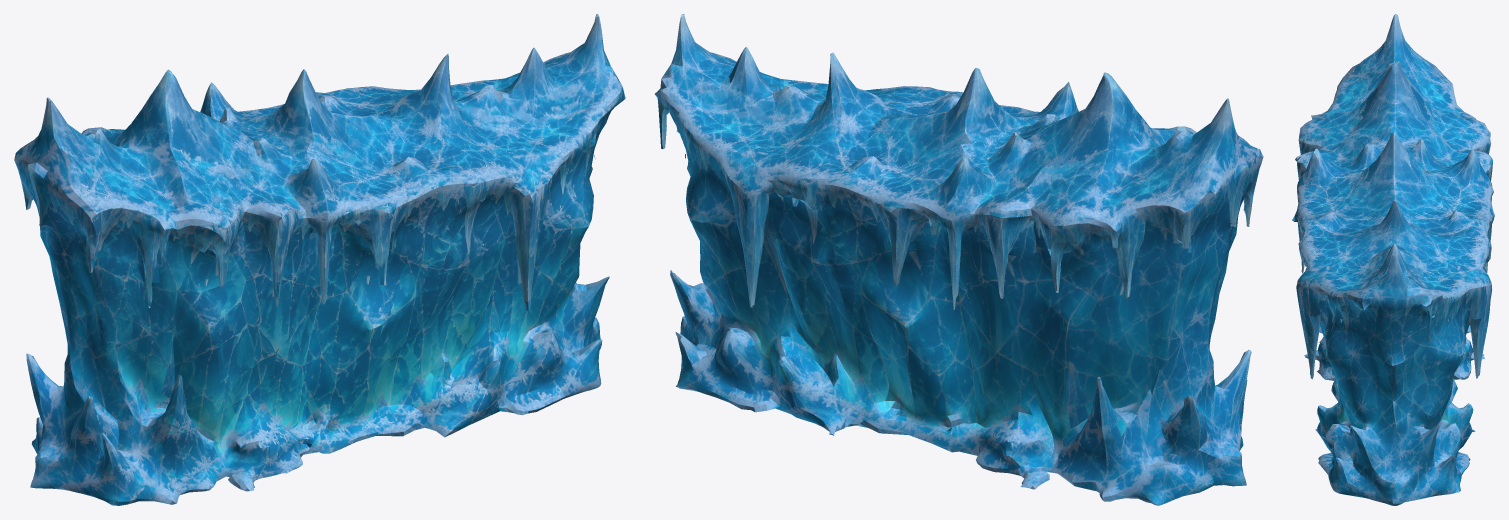
File: wall-of-frost.glb
3 views of the same model, side by side, from view 1: azimuth 30°, elevation 25°; view 2: azimuth 150°, elevation 25°; view 3: azimuth 270°, elevation 25° (orthographic). The views are drawn at different scales.
Visible parts, largest first — view 1: Mesh_0; view 2: Mesh_0; view 3: Mesh_0.
Boxes of the visible parts, box(x1,y1,x2,y2) form: Mesh_0: box(14, 14, 625, 505); Mesh_0: box(655, 14, 1263, 505); Mesh_0: box(1292, 14, 1494, 505).
Size of the model in its own units: 1.86 by 1.19 by 0.7507.
1 material, 1 textured.
